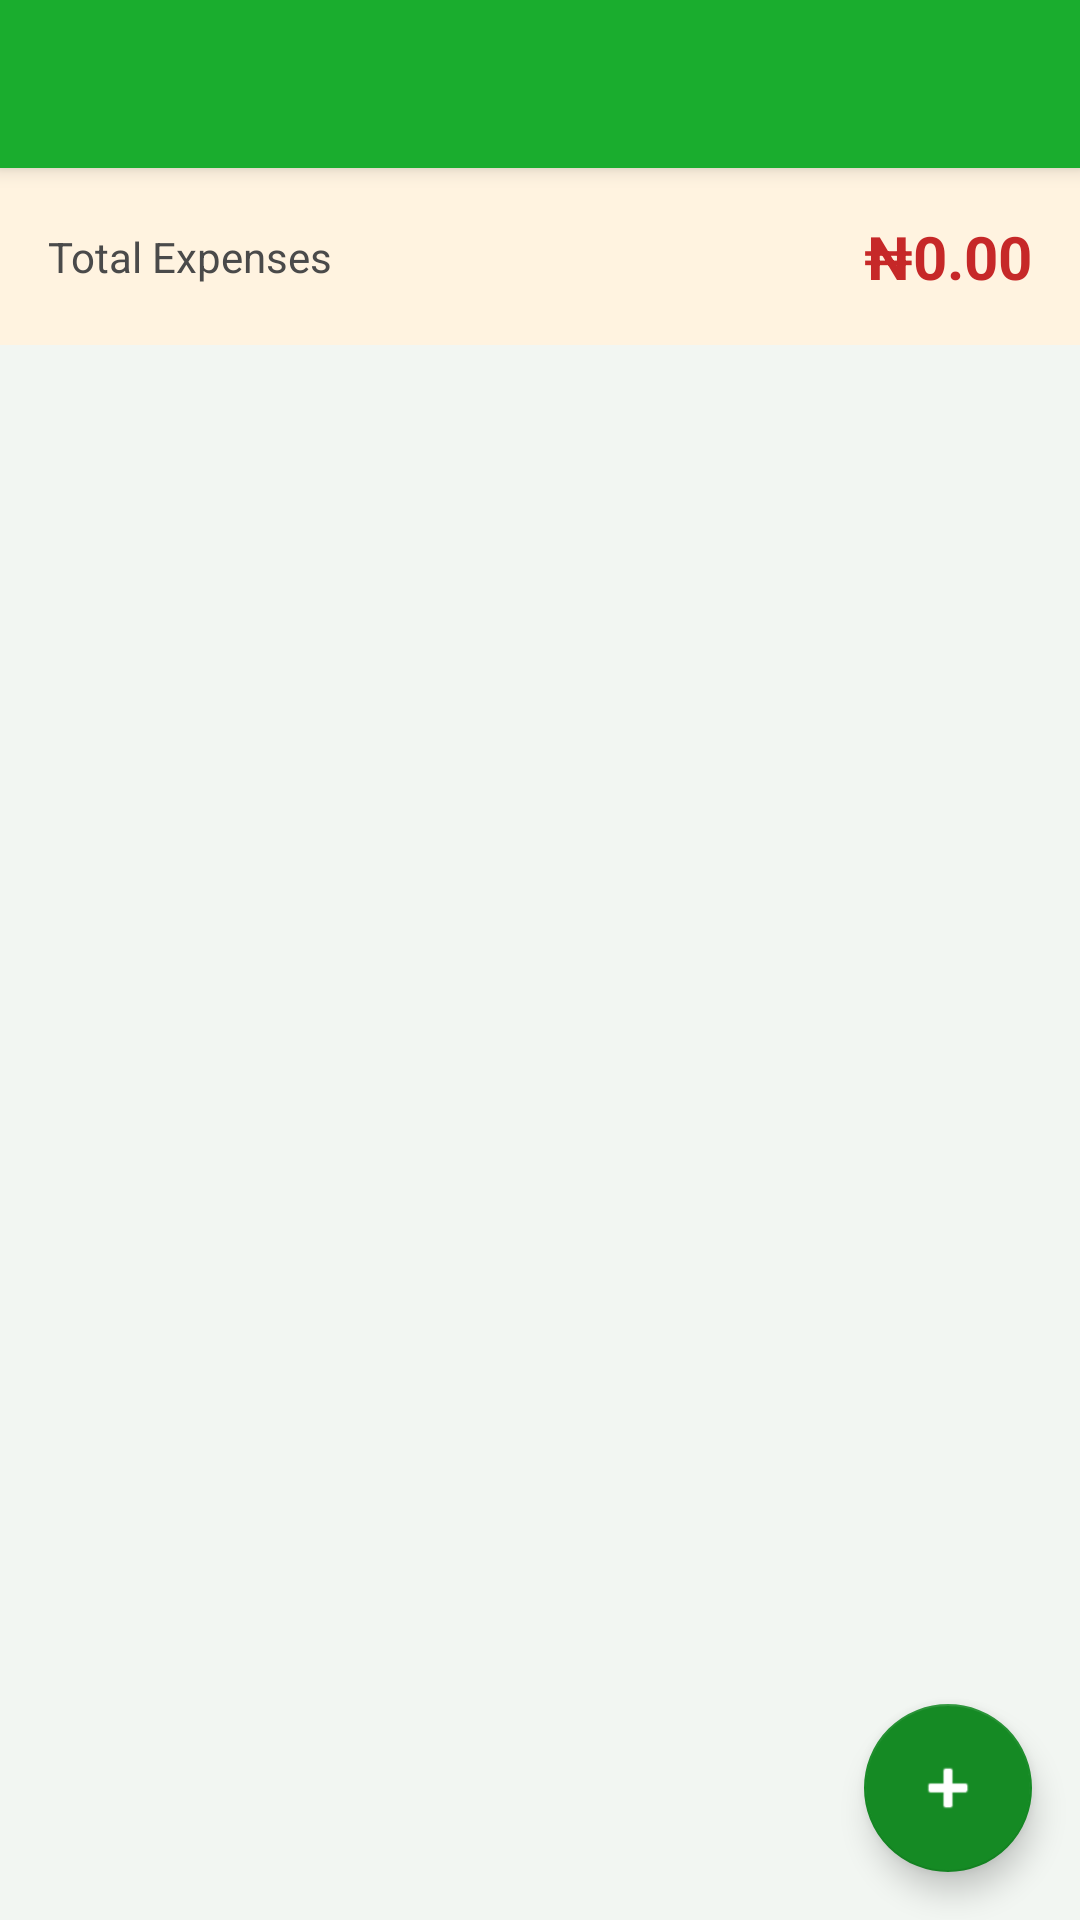

Screen size 1080*1920. Icon name, then its box in pixels as {"left": x1, "top": y1, "right": x2, "bottom": y2}:
Add Expense: {"left": 864, "top": 1704, "right": 1032, "bottom": 1872}
